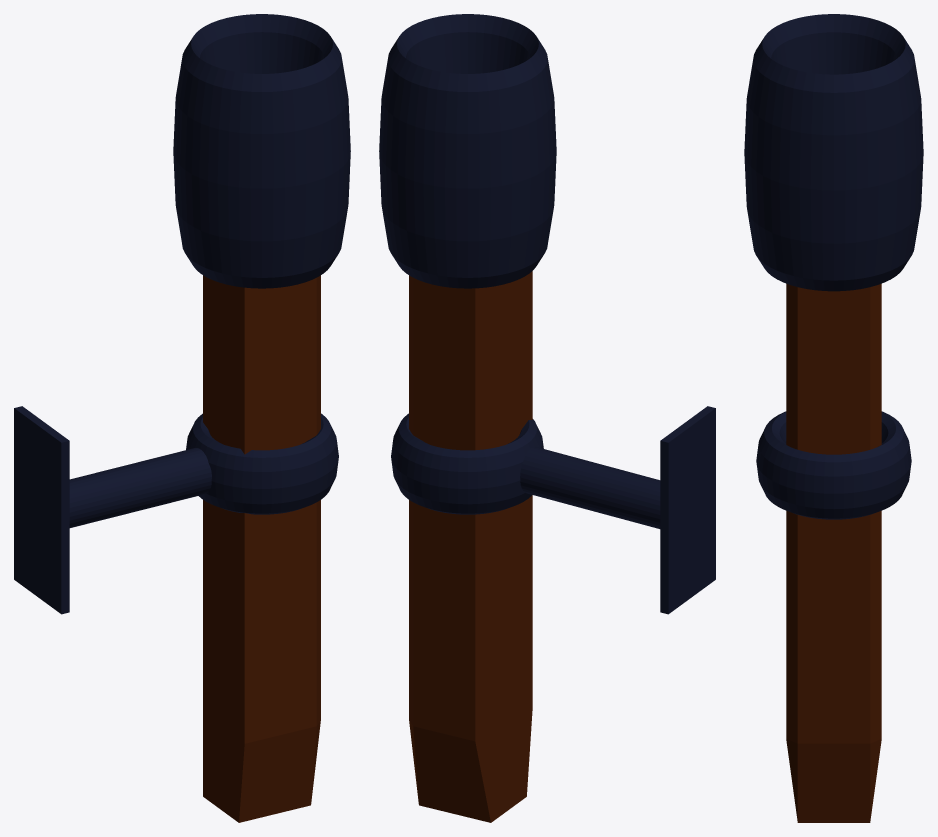
The model's file is Torch.glb.
3 renders of one model, left to right at view 1: azimuth 30°, elevation 25°; view 2: azimuth 150°, elevation 25°; view 3: azimuth 270°, elevation 25°, orthographic.
Parts seen in each view (by area): view 1: Cube, Torus, Cube.001, Torus.001, Cylinder; view 2: Cube, Torus, Cube.001, Torus.001, Cylinder; view 3: Cube, Torus, Torus.001.
Boxes of the visible parts, x1=… form: Cube: x1=203, y1=275, x2=320, y2=822; Torus: x1=173, y1=14, x2=350, y2=288; Cube.001: x1=14, y1=406, x2=69, y2=614; Torus.001: x1=186, y1=413, x2=338, y2=514; Cylinder: x1=69, y1=448, x2=211, y2=527; Cube: x1=409, y1=271, x2=532, y2=822; Torus: x1=379, y1=14, x2=556, y2=288; Cube.001: x1=660, y1=406, x2=715, y2=614; Torus.001: x1=391, y1=413, x2=543, y2=514; Cylinder: x1=520, y1=447, x2=660, y2=528; Cube: x1=786, y1=283, x2=881, y2=822; Torus: x1=744, y1=14, x2=923, y2=291; Torus.001: x1=756, y1=411, x2=911, y2=519.
Size of the model in its own units: 0.7344 by 1.76 by 0.375.
